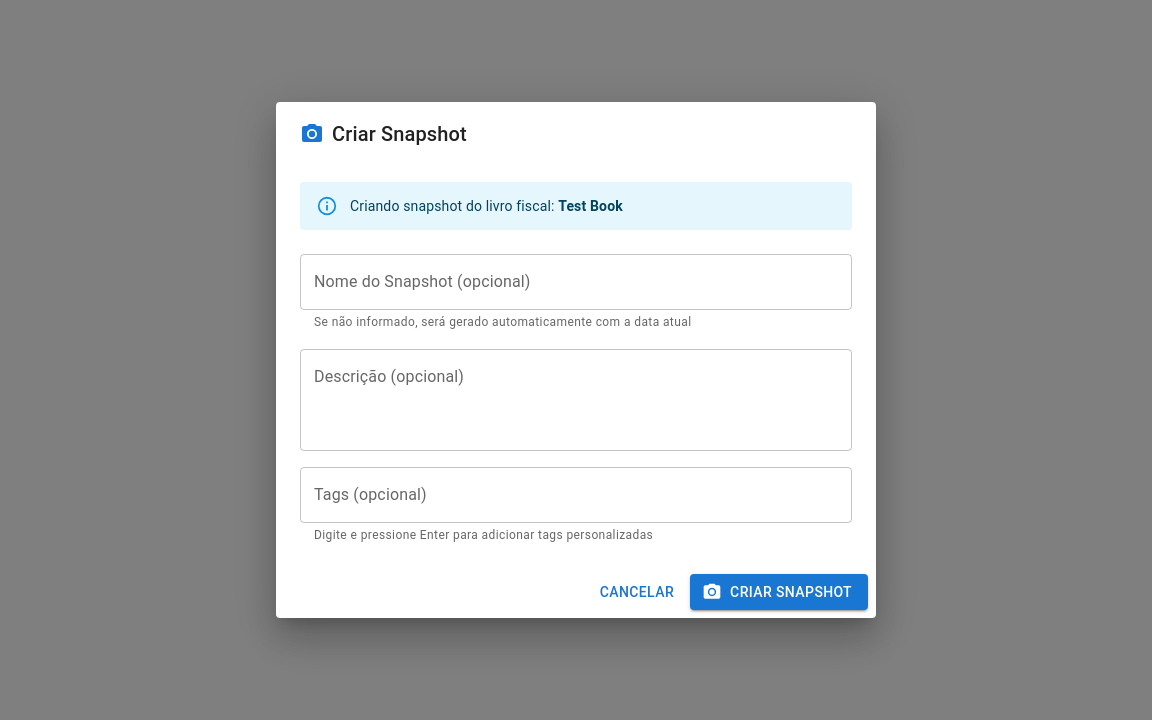
Test: CreateSnapshotDialog › can dismiss error alert
The image size is (1152, 720).
Click the button "Criar Snapshot".
click(779, 592)  # box [690,574,868,610]
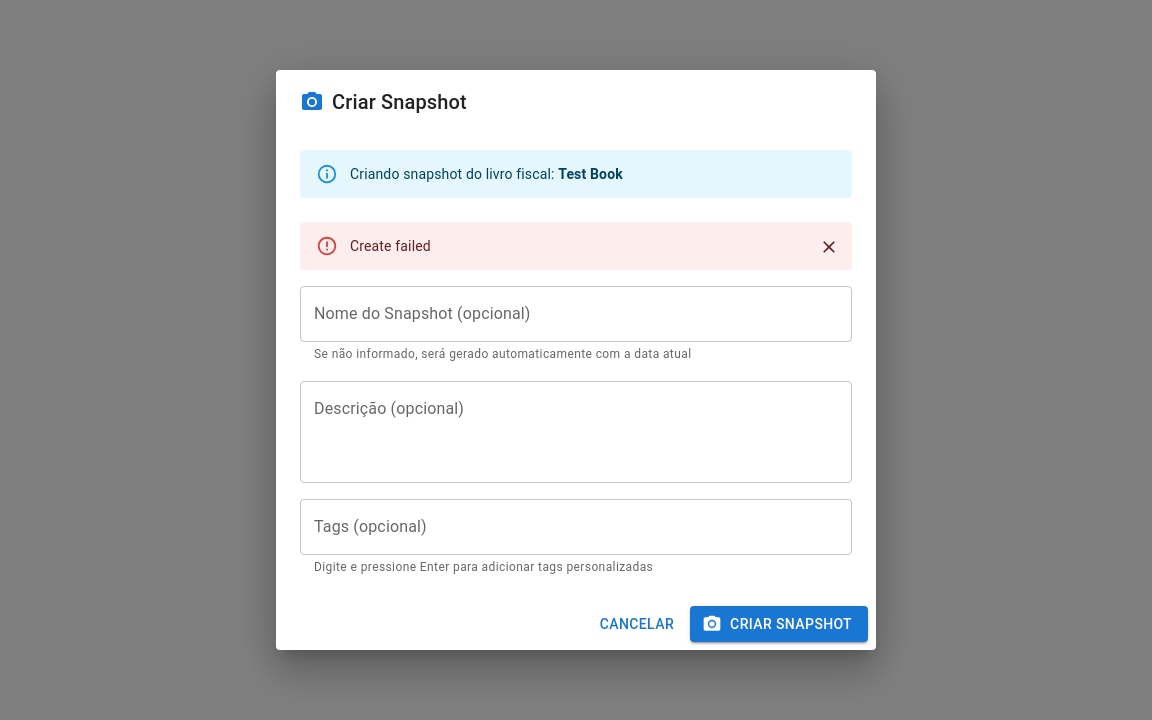
Check: the text "Create failed" is shown, box [350,238,431,254]
Note: Click close button on error alert
Click the button named "Close".
click(829, 247)  # box [814,232,844,262]
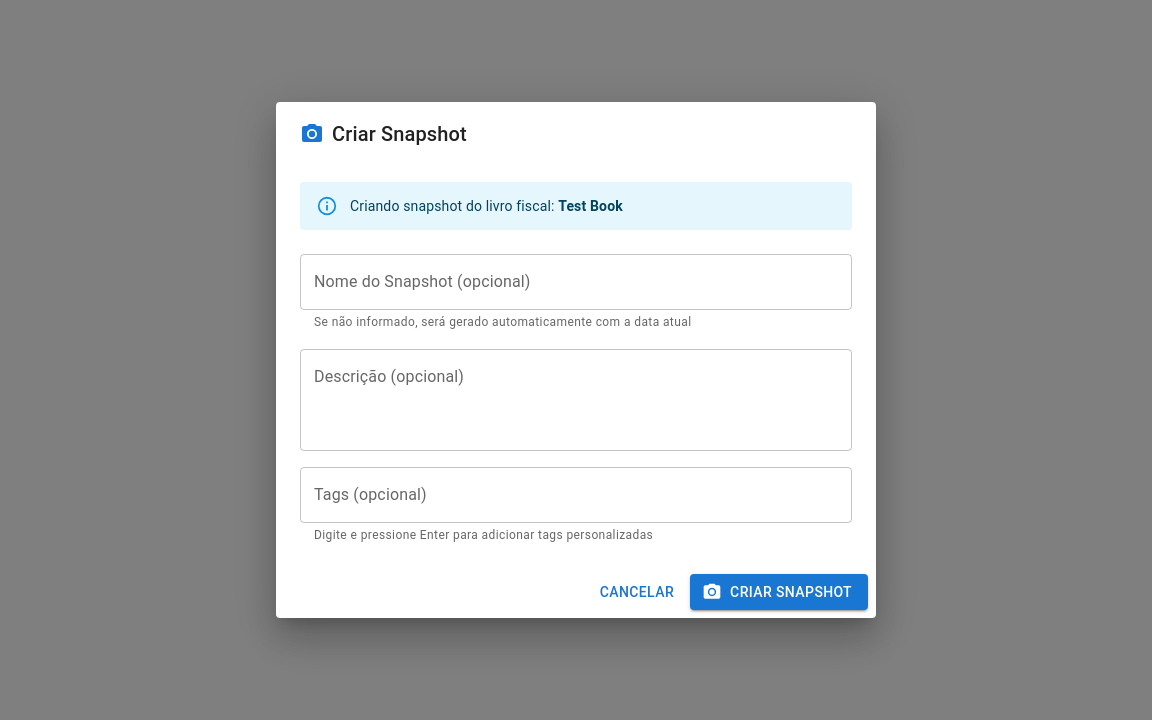
Check: the text "Create failed" is gone
